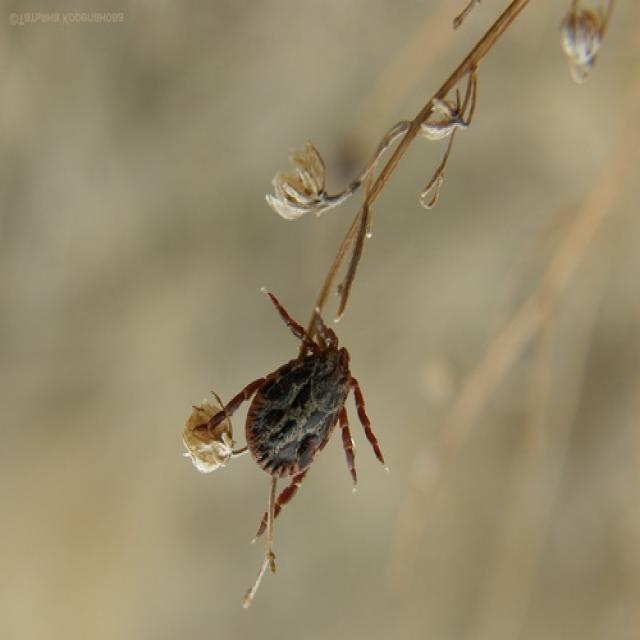Dermacentor Reticulatus-M: (206, 286, 384, 571)
